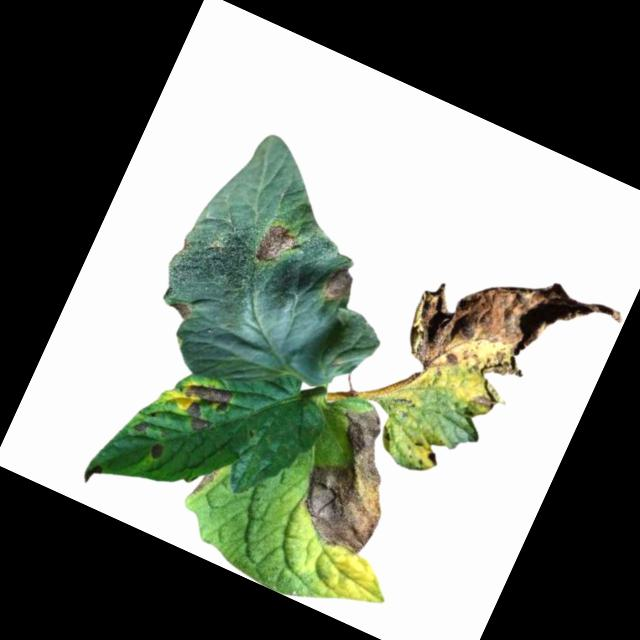Early_blight: (390, 230, 627, 442), (284, 394, 422, 561), (172, 371, 237, 440), (251, 218, 301, 272), (316, 262, 358, 307), (191, 462, 217, 499), (166, 295, 198, 323), (82, 460, 103, 486), (145, 439, 168, 461), (424, 444, 444, 466), (131, 415, 151, 434)
